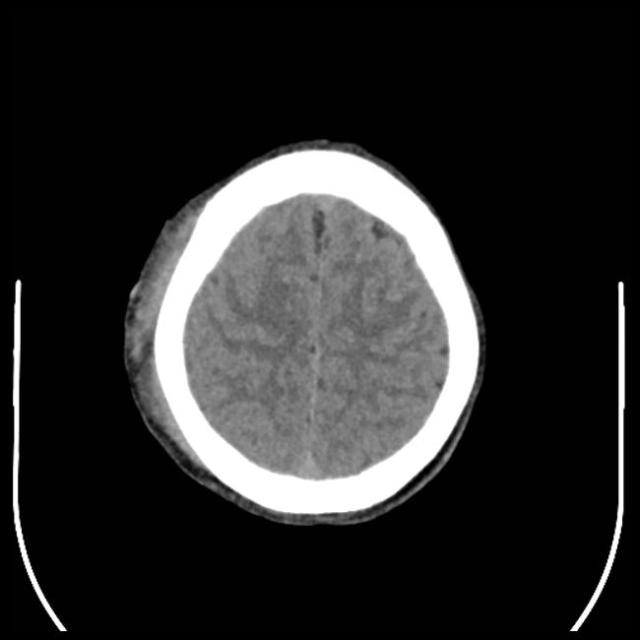lesion: (117, 133, 492, 531)
